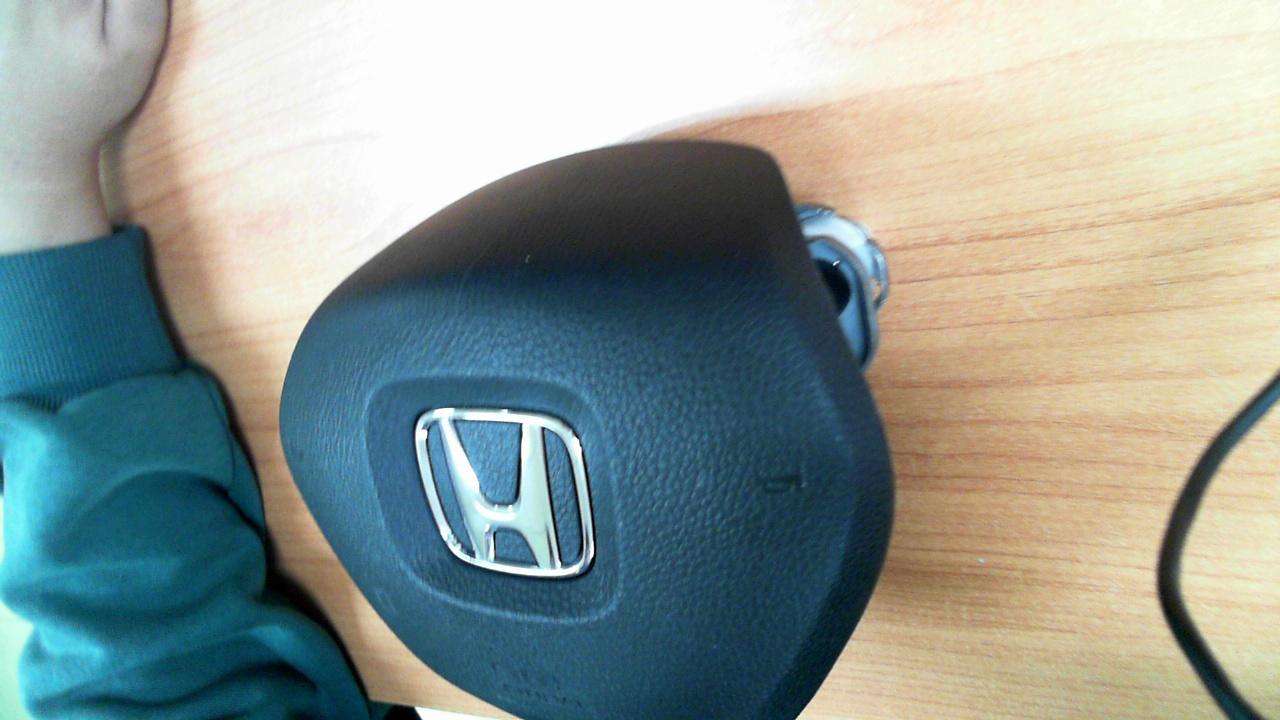Airbag: (277, 139, 896, 720)
Honda: (414, 407, 595, 577)
